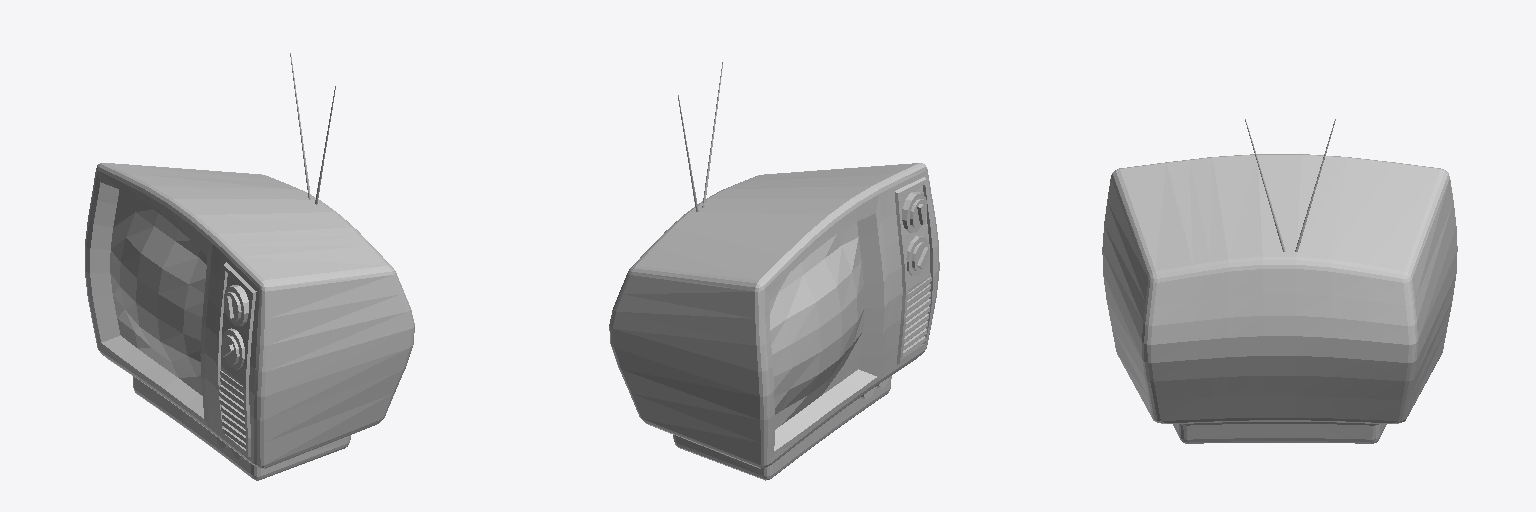
The picture shows the model from 3 angles: view 1: azimuth 30°, elevation 25°; view 2: azimuth 150°, elevation 25°; view 3: azimuth 270°, elevation 25°; orthographic projection.
Parts seen in each view (by area): view 1: TV1:Material_026; view 2: TV1:Material_026; view 3: TV1:Material_026.
Part boxes in pixels (x1,y1,x2,y2): TV1:Material_026: (85, 53, 414, 480); TV1:Material_026: (609, 62, 939, 480); TV1:Material_026: (1102, 119, 1457, 443).
Size of the model in its own units: 0.8033 by 1.37 by 1.32.